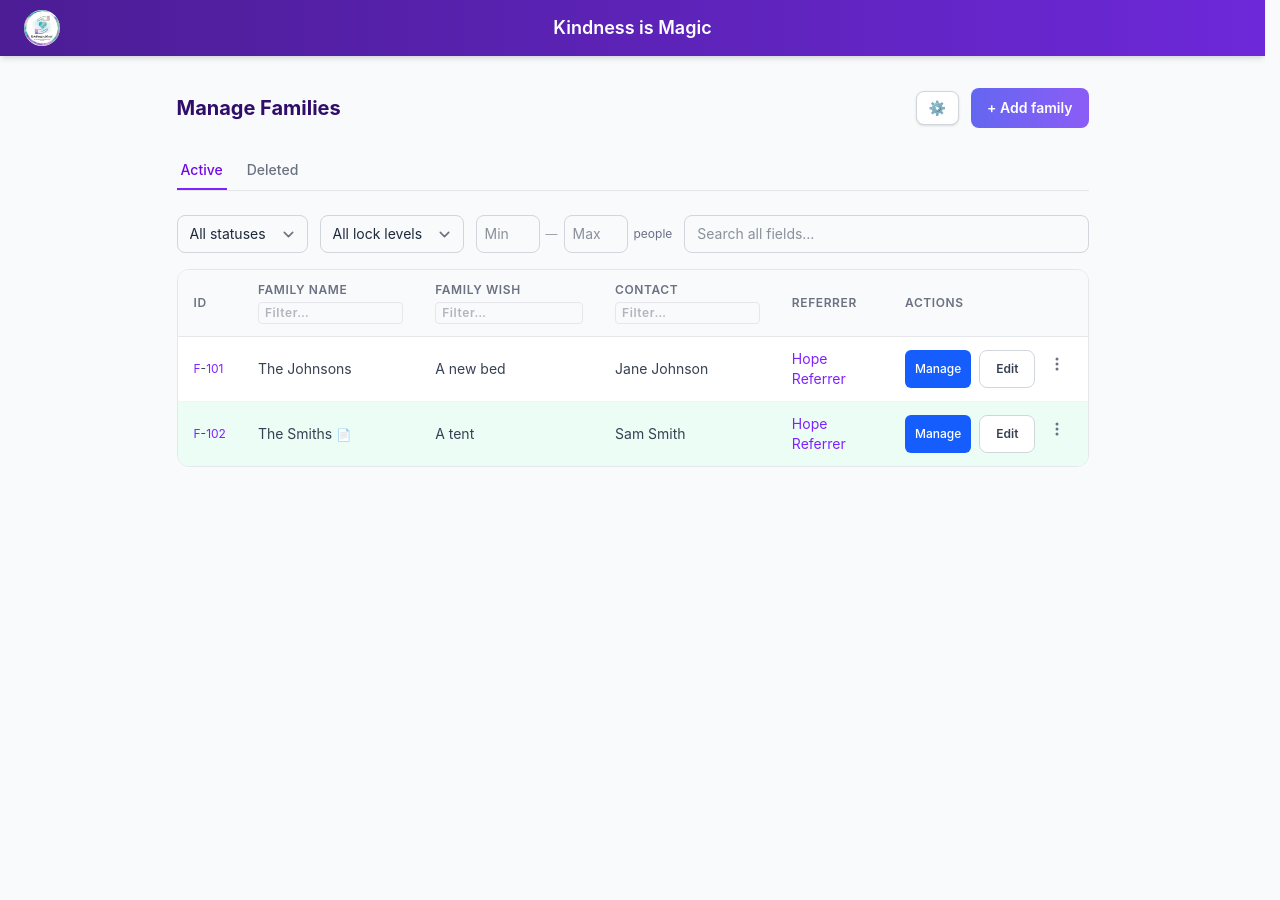
Scenario: AdminFamilies › editing an admin-locked family requires confirmation before update
The width and height of the screenshot is (1280, 900).
Expected: the text "The Smiths" is shown, [258,425,332,442]
Click the button "Edit" in the row of "102" at [1007, 434], box [979,415,1035,453]
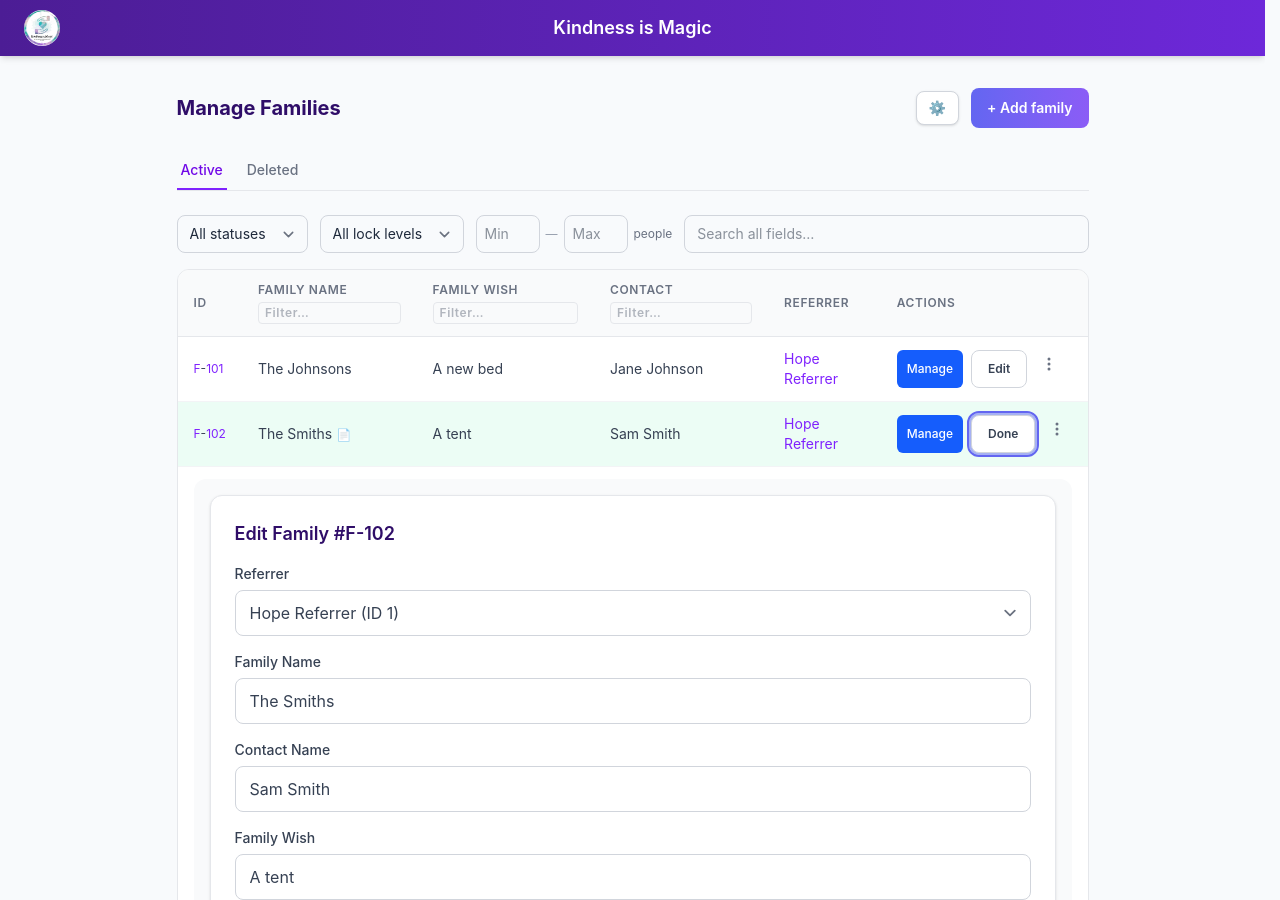
Expected: the heading "Edit Family #F-102" is shown, [234,523,395,544]
Replace the text in the field labelled "Family Name" with "The Smiths Updated" at [632, 701], box [234,678,1030,724]
(page scrolled)
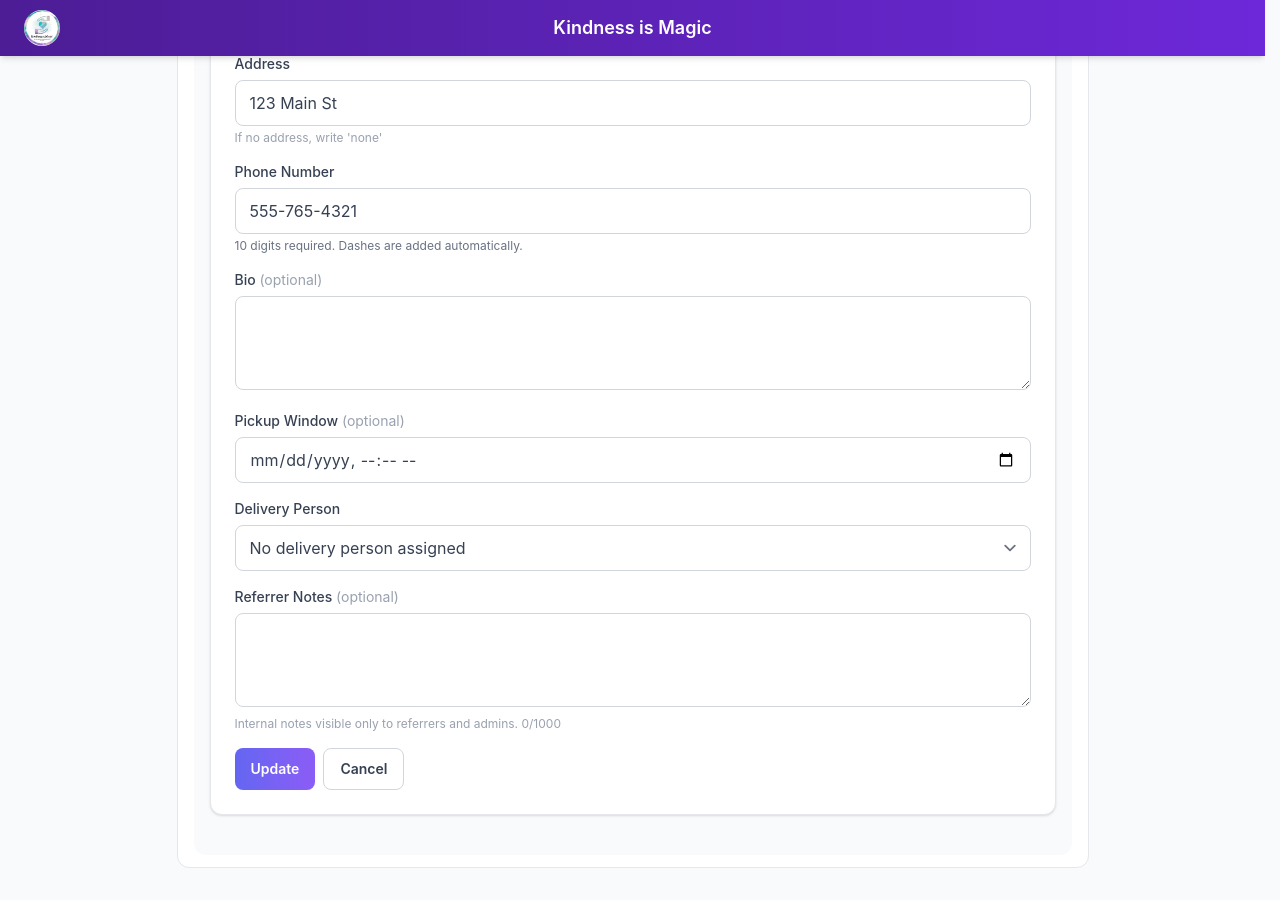
Click the button "Update" at [275, 769], box [234,748,315,790]
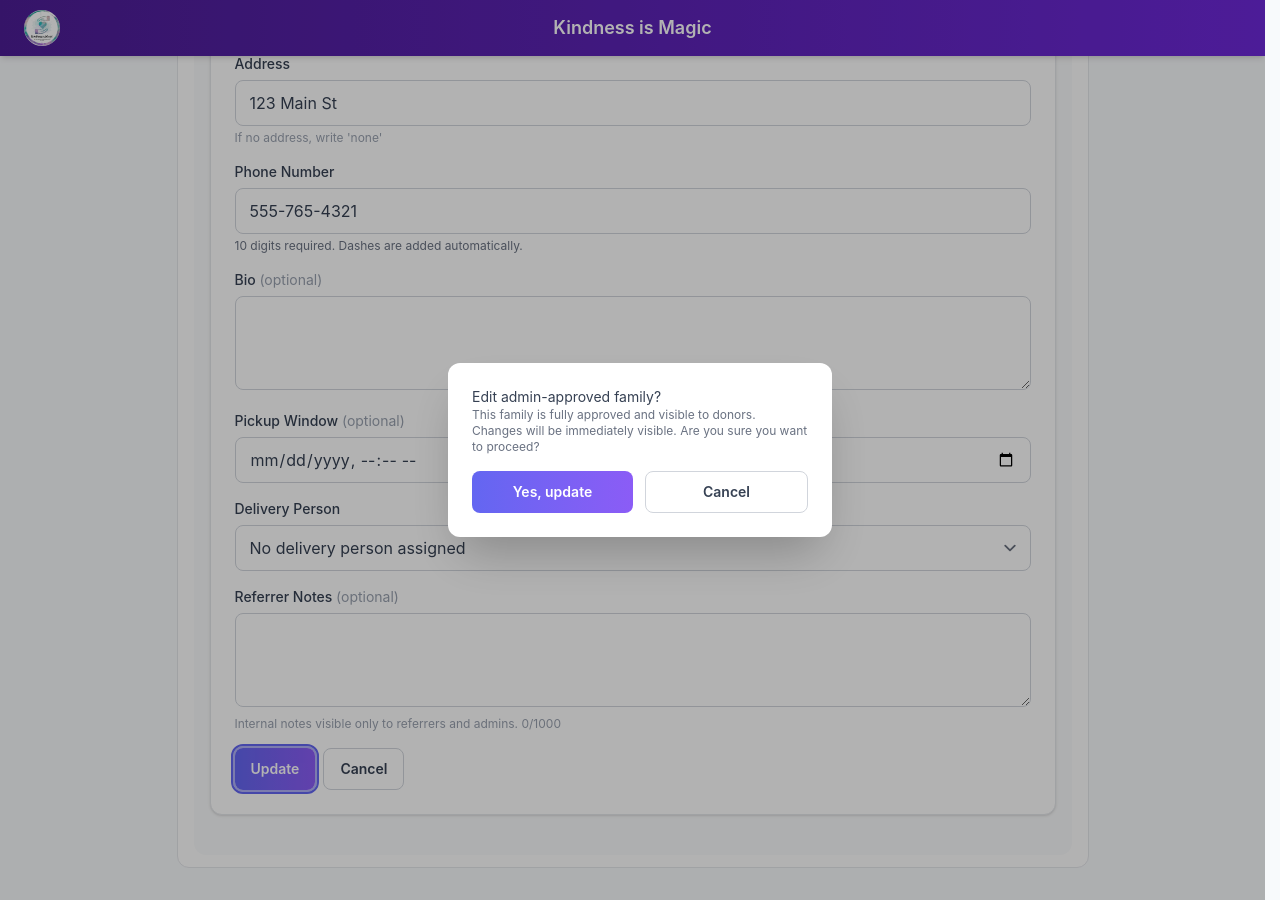
Expected: the text "Edit admin-approved family?" is shown, [472,388,661,405]
Click the button "Yes, update" at [552, 492], box [472,471,633,513]
(page scrolled)
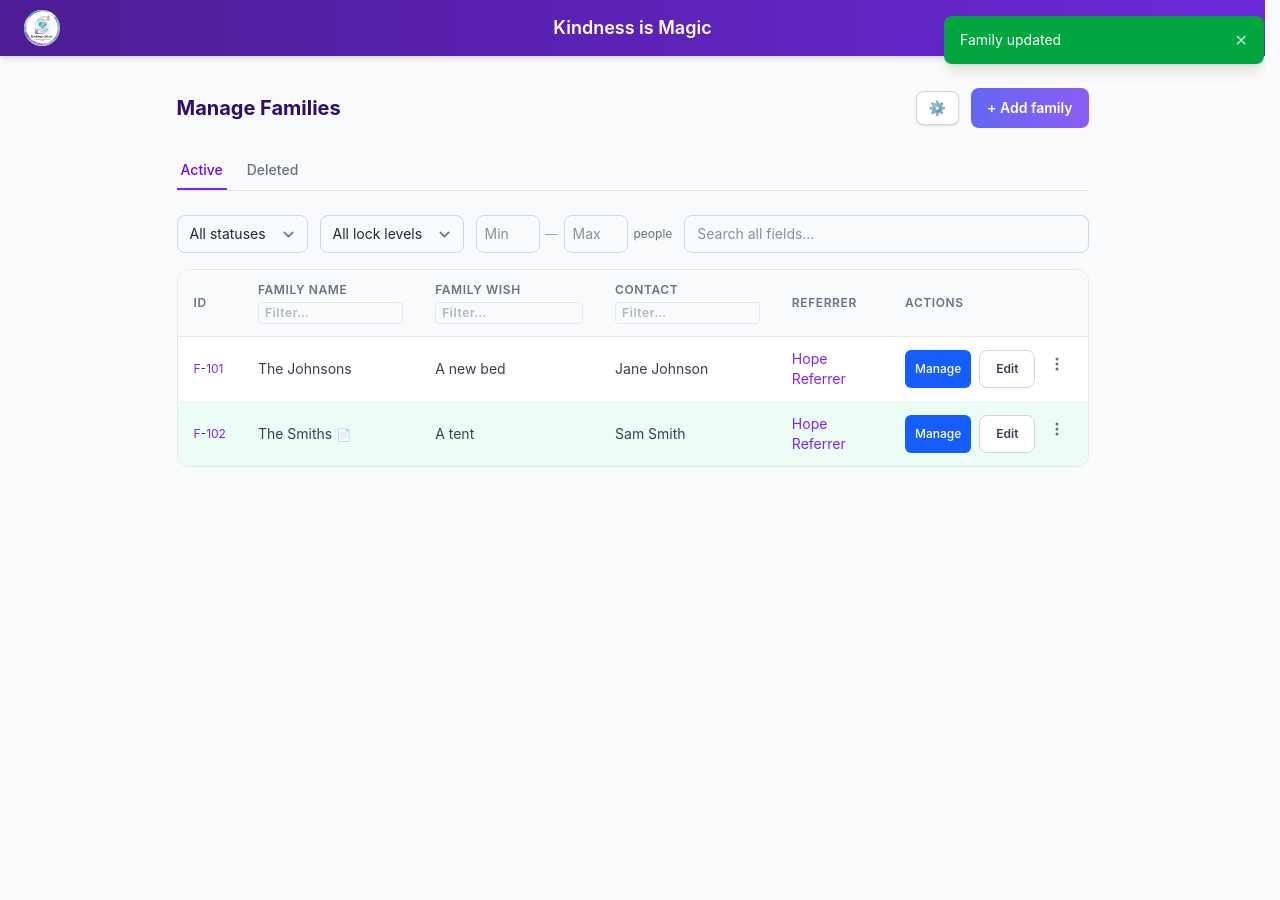
Expected: the text "Family updated" is shown, [960,31,1061,48]
